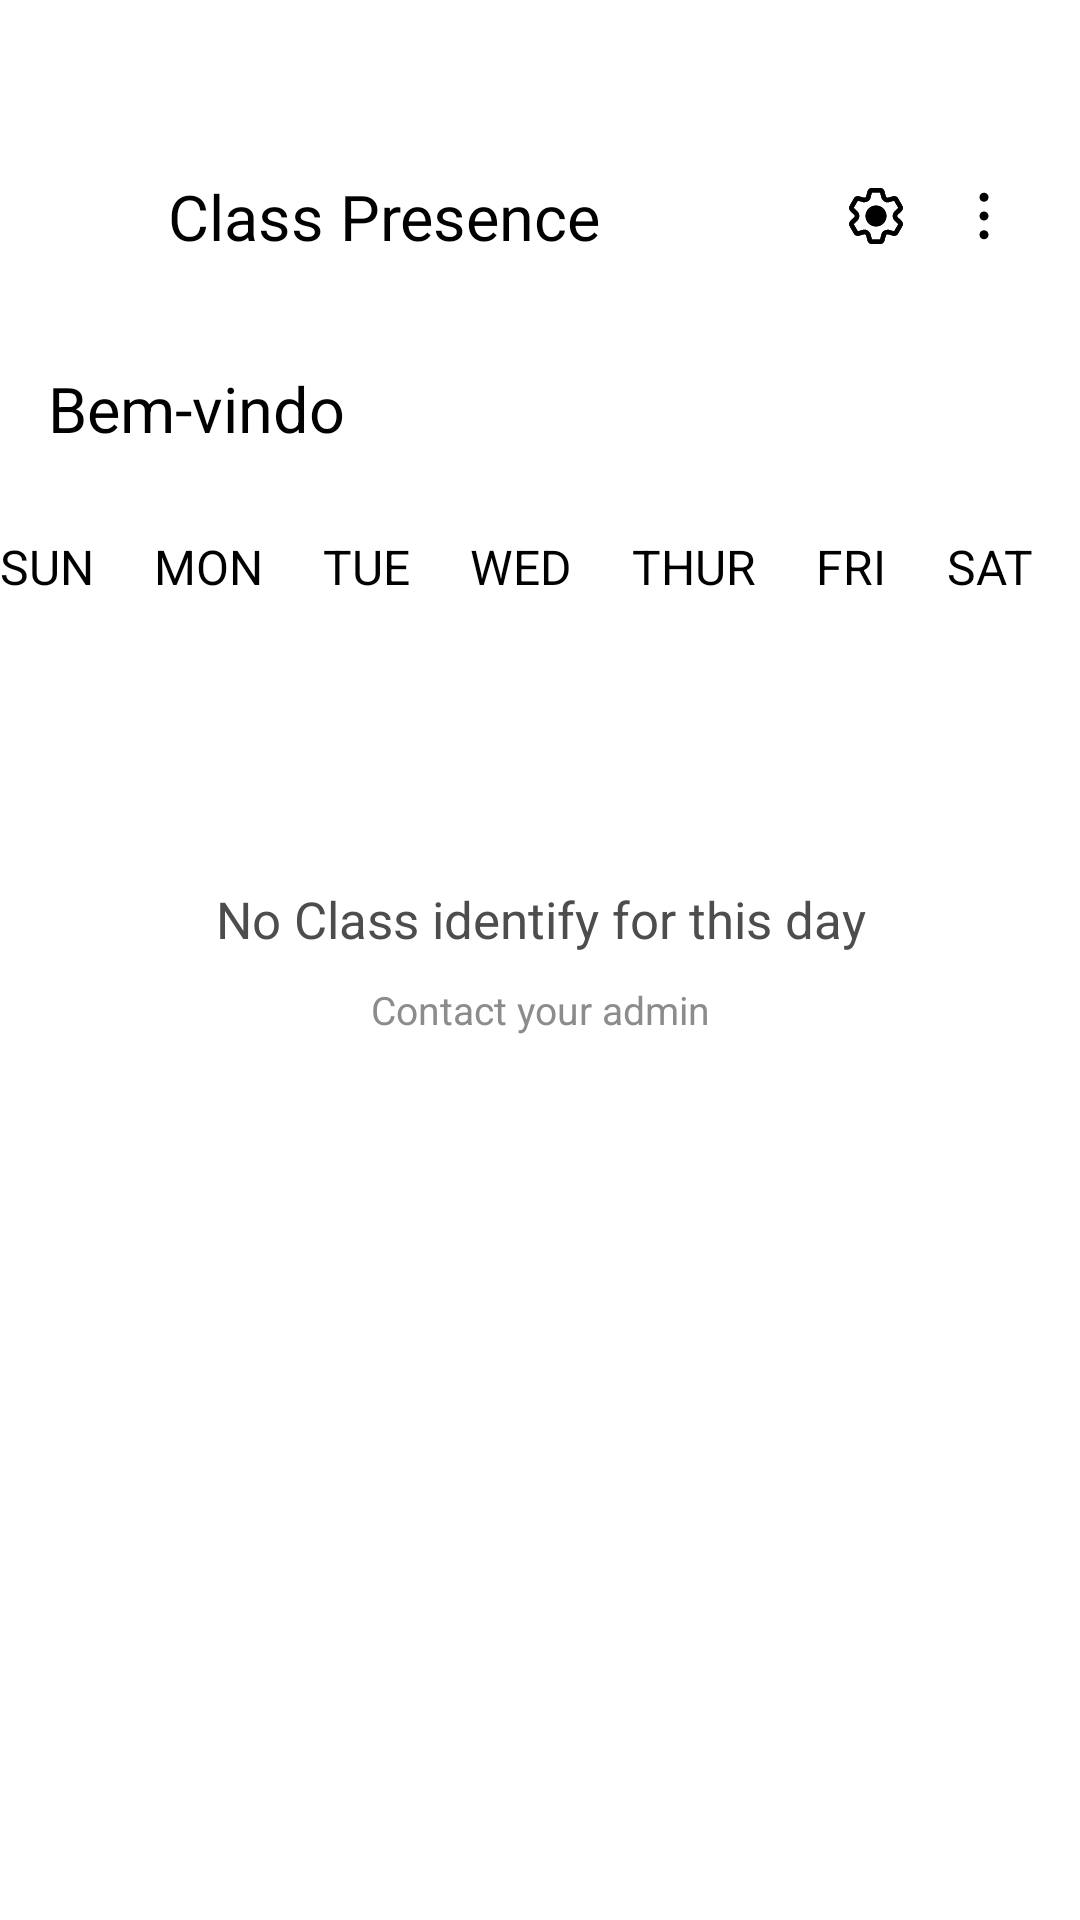

Locate icon controls on the screen. Image size 1080x1920, boxes as [x1,y1,x2,y2].
menu: [979,192,989,240]
settings: [849,188,903,244]
